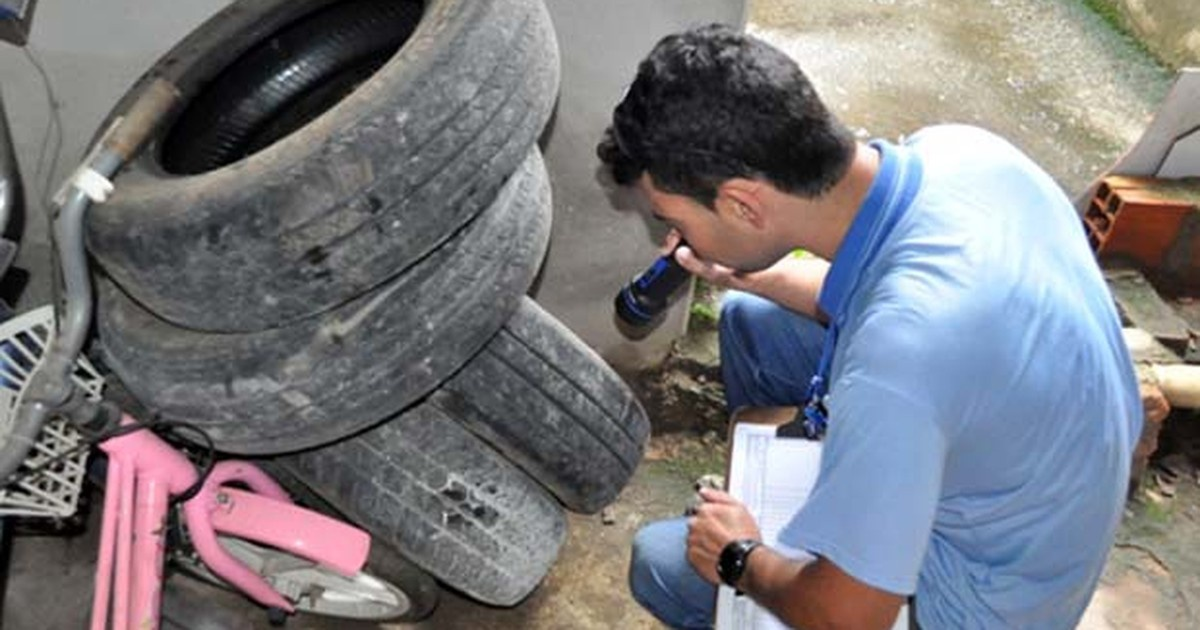tire: (58, 1, 577, 333), (76, 116, 561, 450), (201, 344, 576, 613), (354, 260, 652, 523)
